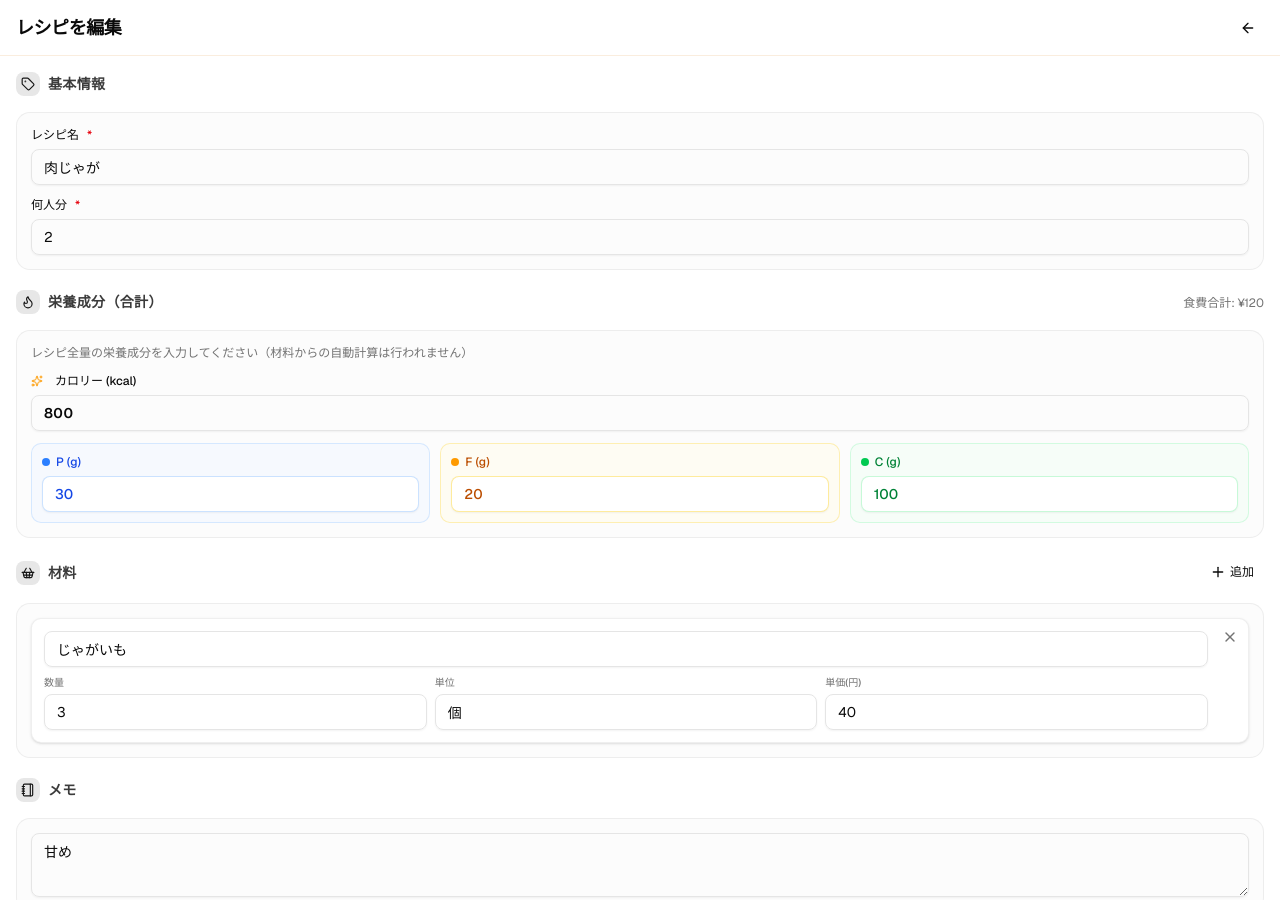
Test: RecipeFormView (S-05 レシピ登録/編集) › 戻るときの未保存の確認(G-8) › G-8: 材料を足しただけでも、戻るときに確認が出る
Click the button "追加". click: (1232, 572)
box: x1=1200 y1=558 x2=1264 y2=586
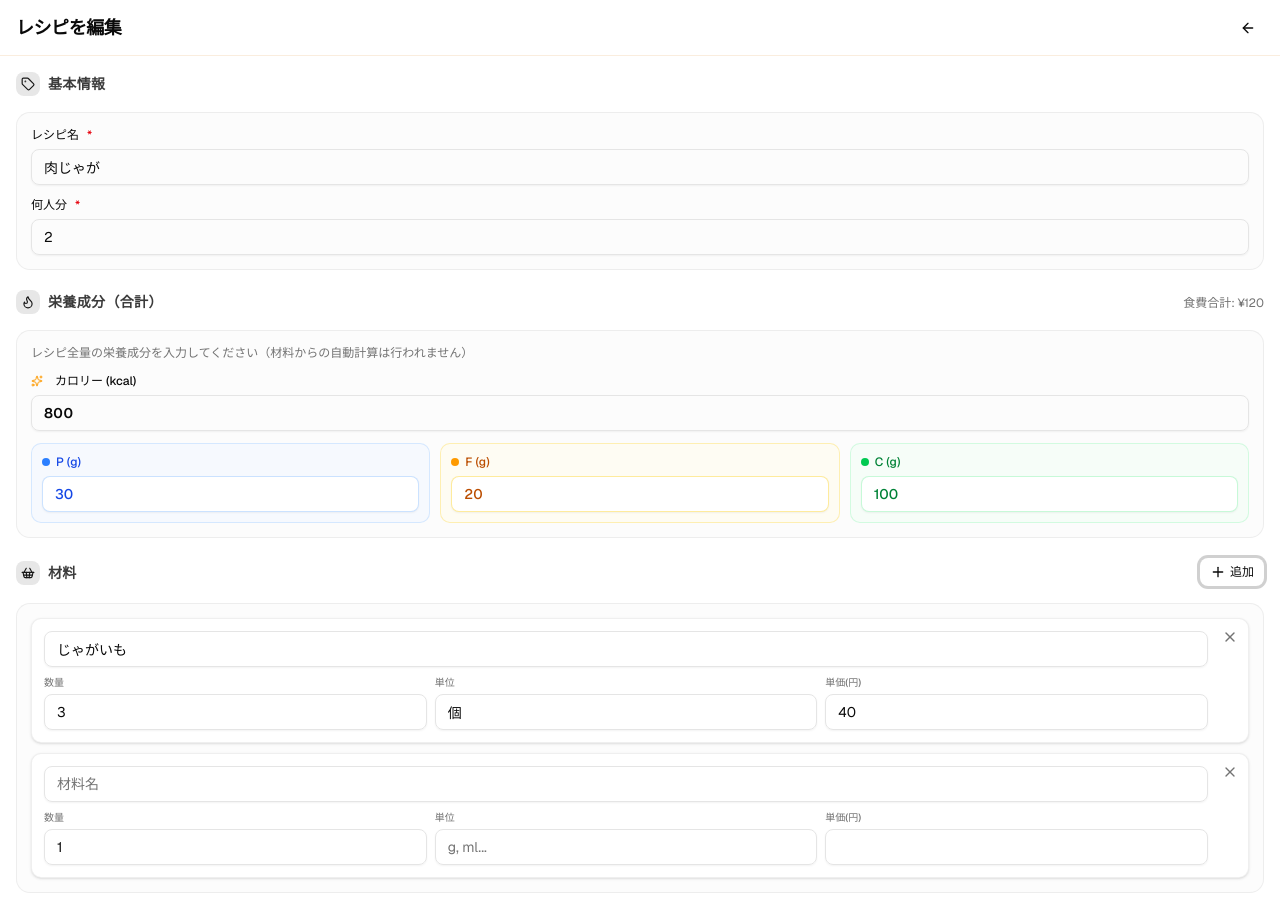
Click the button named "レシピの一覧に戻る". click: (1248, 28)
box: x1=1232 y1=12 x2=1264 y2=44
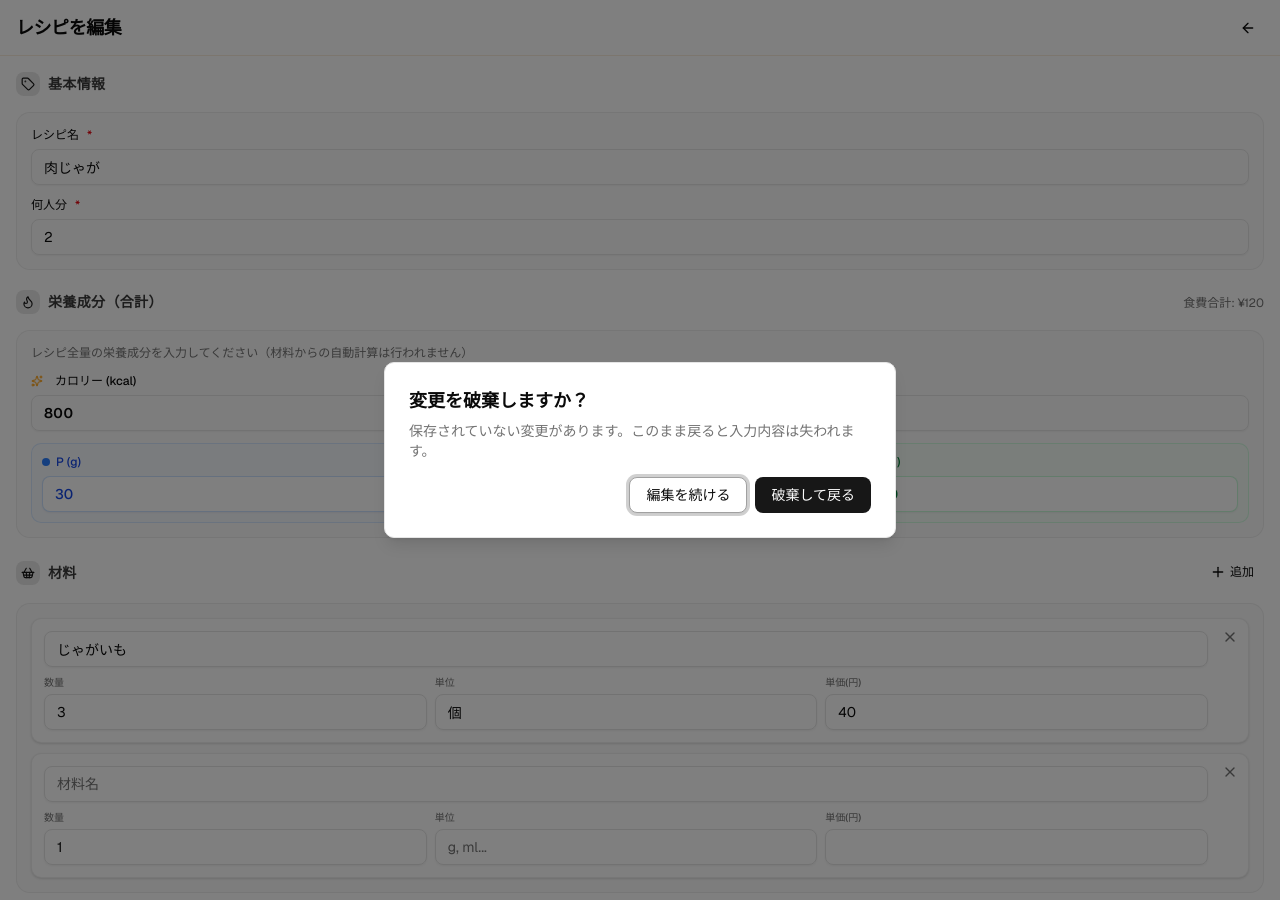
Check: the dialog "変更を破棄しますか？" is shown, box x1=384 y1=362 x2=896 y2=538
